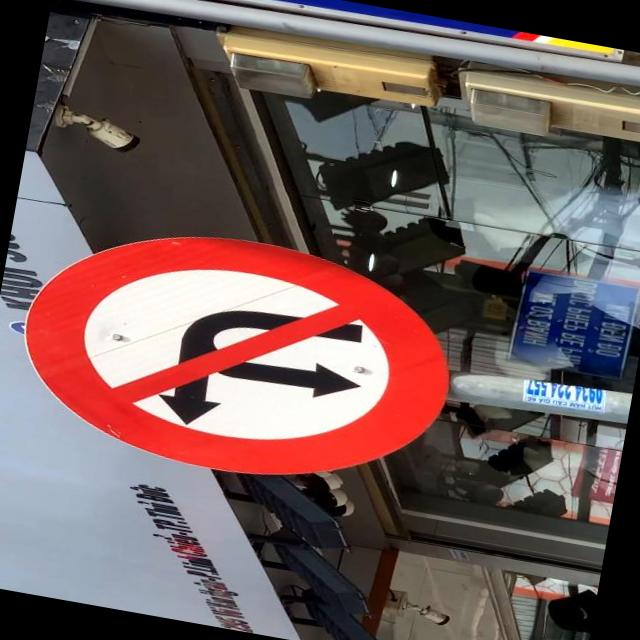P-124c: (4, 204, 464, 506)
